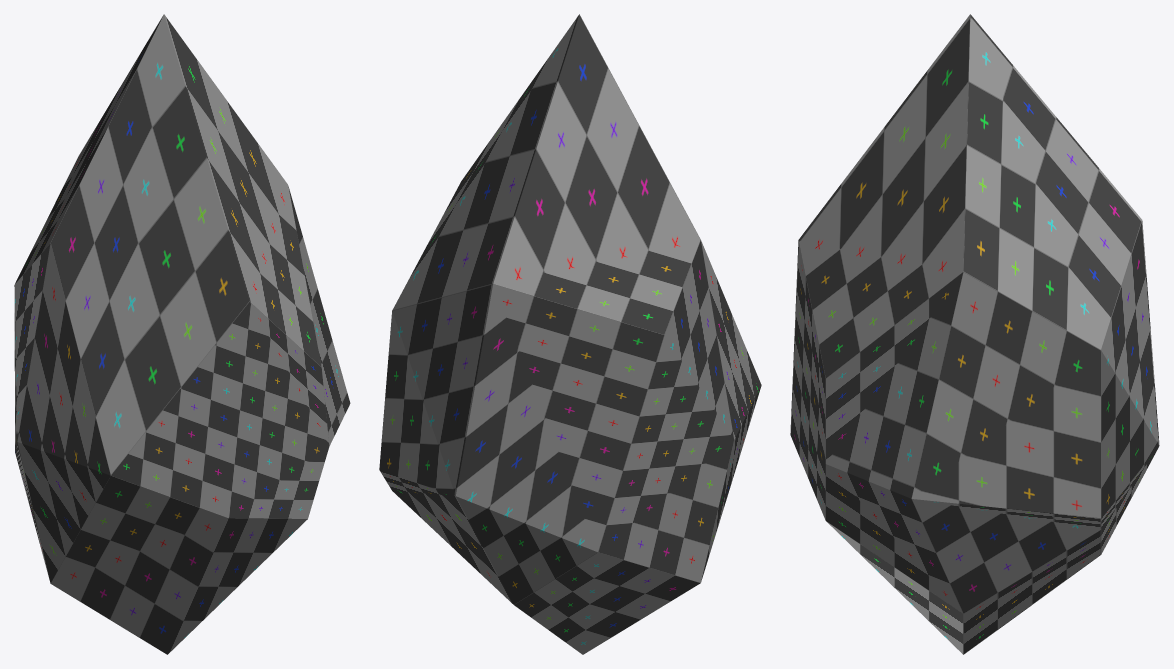
The model's file is crystal.gltf.
The picture shows the model from 3 angles, left to right: view 1: azimuth 30°, elevation 25°; view 2: azimuth 150°, elevation 25°; view 3: azimuth 270°, elevation 25°; orthographic projection.
Parts seen in each view (by area): view 1: Cube; view 2: Cube; view 3: Cube.
Boxes of the visible parts, bbox=[...] form: Cube: bbox=[14, 14, 350, 654]; Cube: bbox=[379, 14, 761, 654]; Cube: bbox=[790, 14, 1159, 654].
Size of the model in its own units: 2.59 by 5.13 by 2.68.
1 material, 1 textured.
